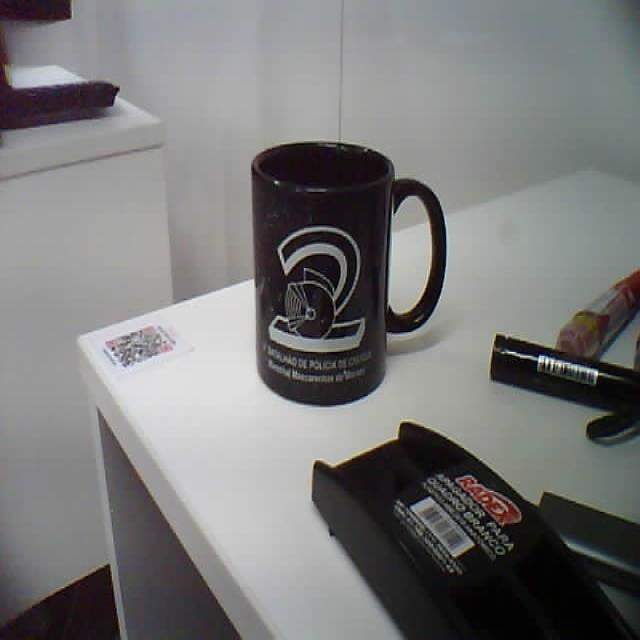caneca: (252, 140, 445, 401)
